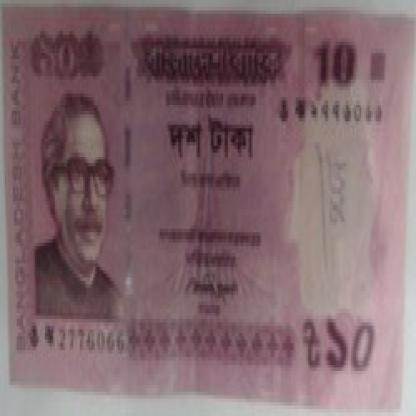Ten Taka: (324, 305, 380, 381), (28, 31, 98, 80), (315, 24, 361, 90)
